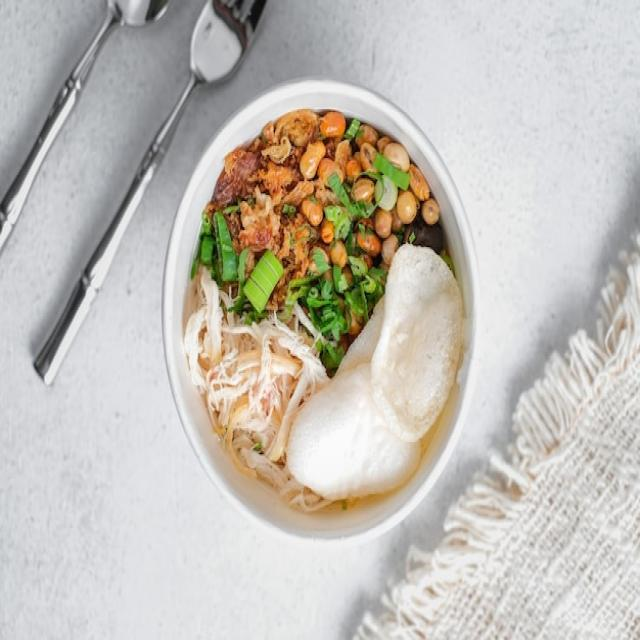bubur ayam: (185, 113, 452, 517)
mangkuk: (161, 78, 481, 542)
